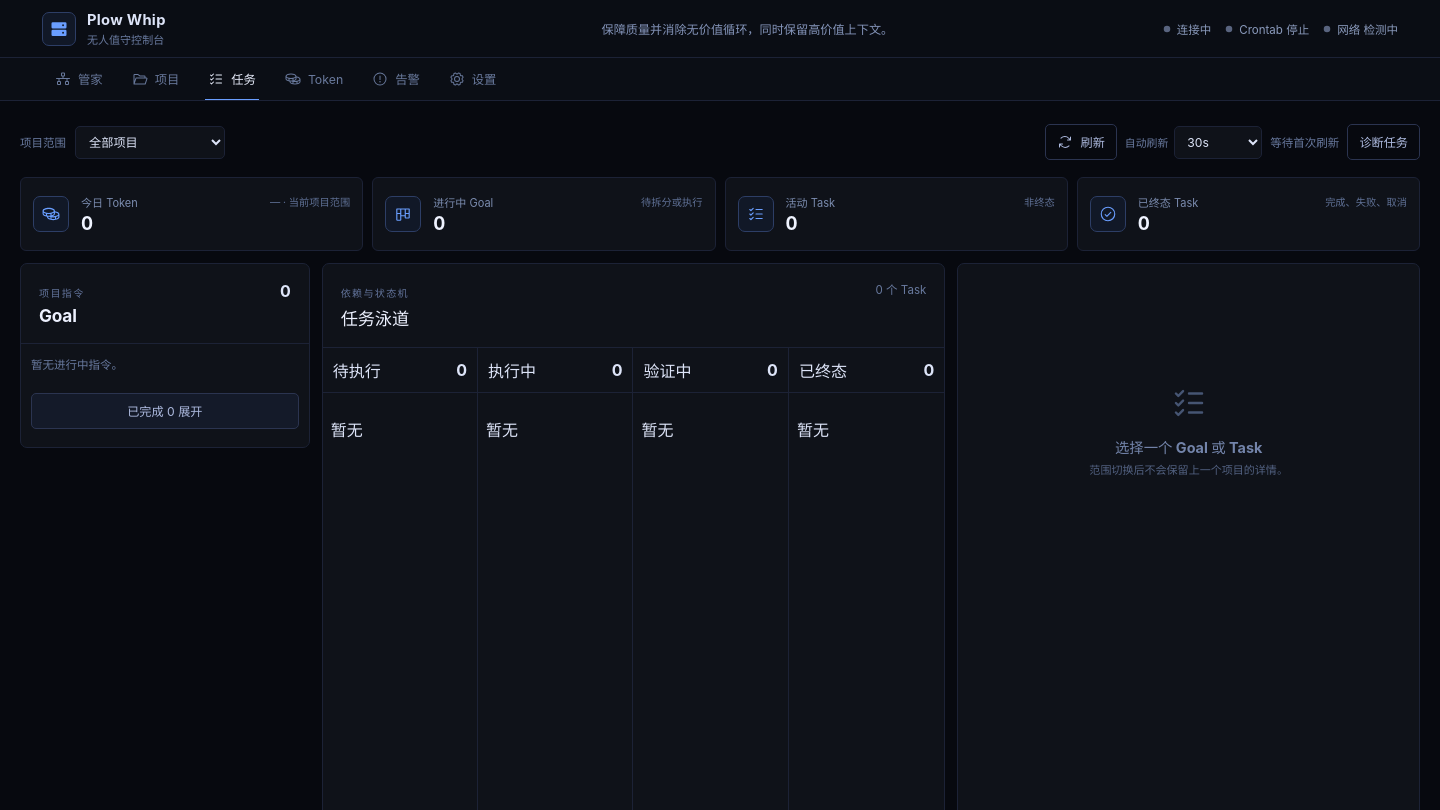
Scenario: shows one butler for the selected scope and only on the butler page
This screenshot has width=1440, height=810.
Expected: the button "与项目管家对话" is not shown
Click the button "管家" at (79, 79), box left=42, top=58, right=116, bottom=100
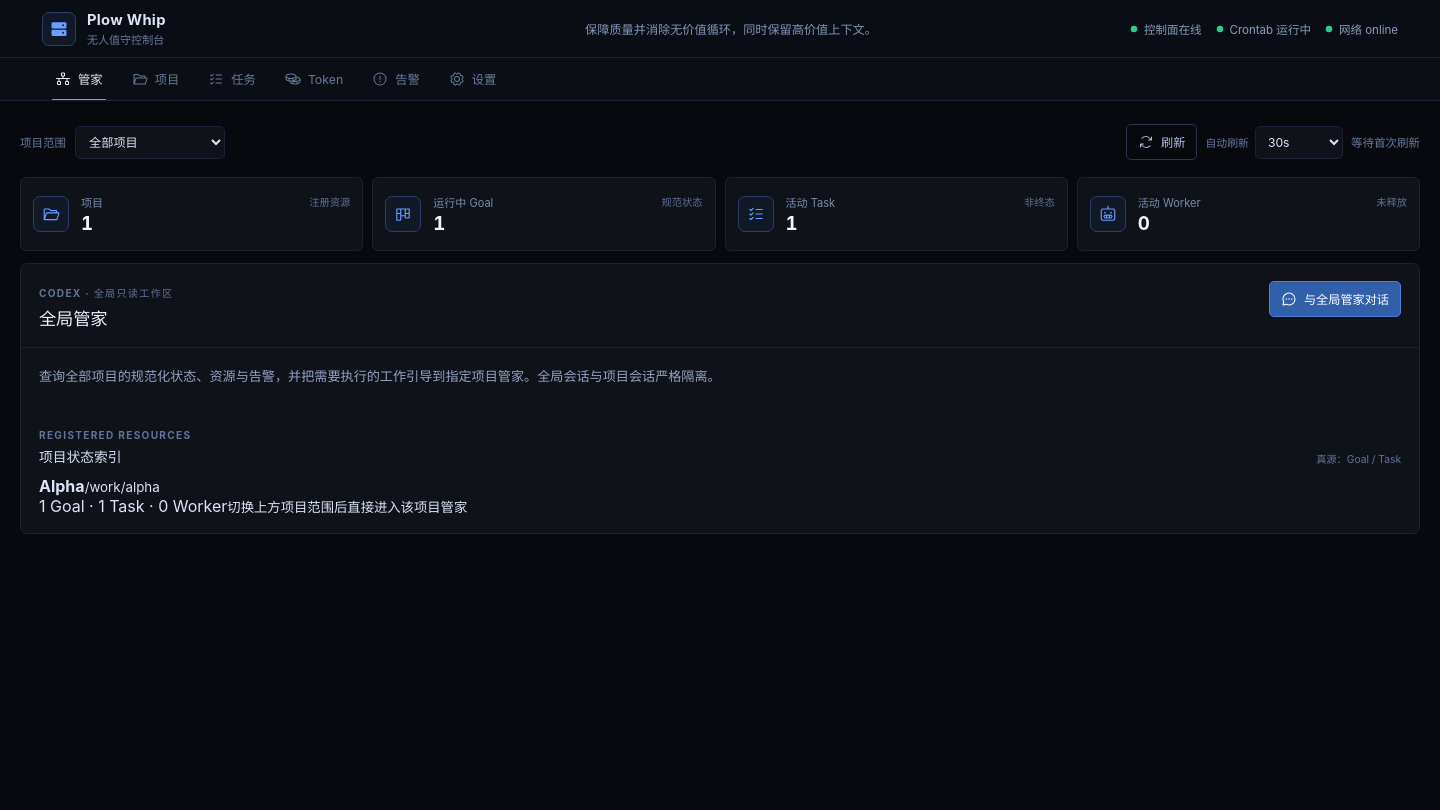
Expected: the button "与全局管家对话" is shown, left=1269, top=281, right=1401, bottom=317
Select "Alpha" in the dropdown labelled "项目范围" at (150, 142), box left=75, top=126, right=225, bottom=158
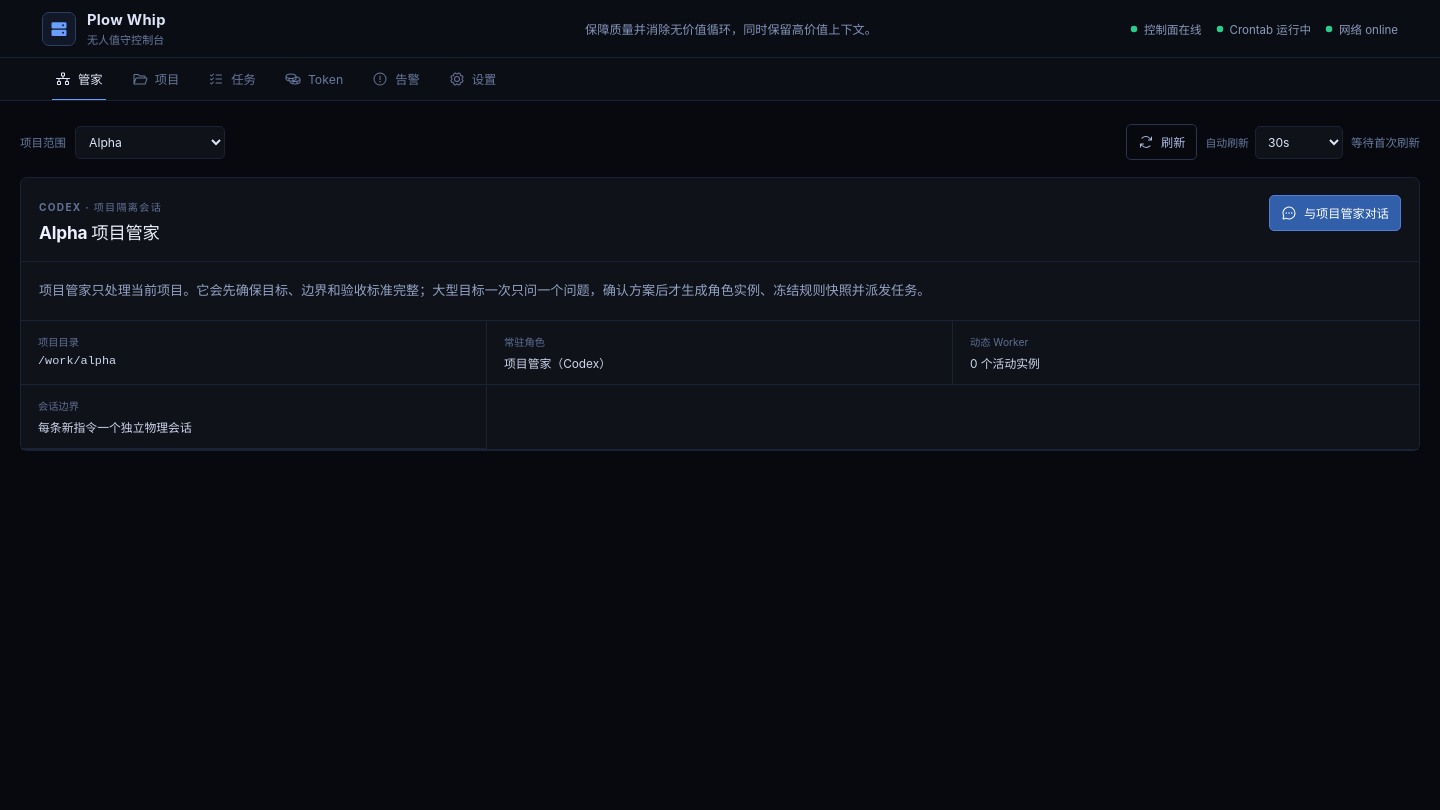
Expected: the heading "Alpha 项目管家" is shown, left=39, top=219, right=162, bottom=244
Expected: the button "与项目管家对话" is shown, left=1269, top=195, right=1401, bottom=231
Expected: the button "与全局管家对话" is gone
